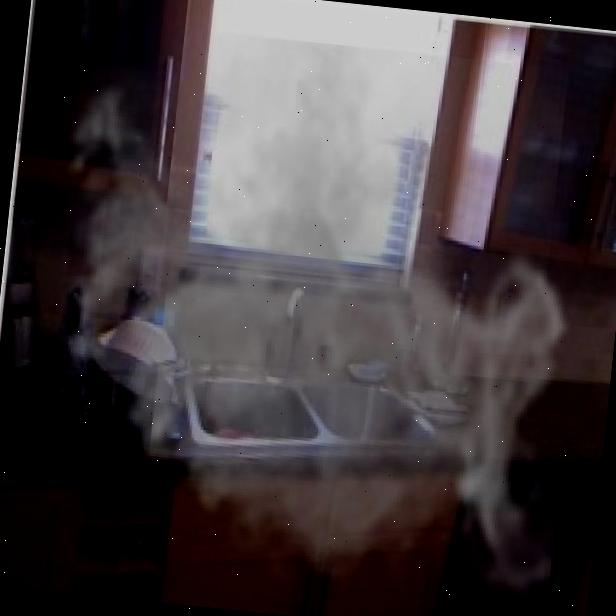smoke: (7, 16, 602, 616)
